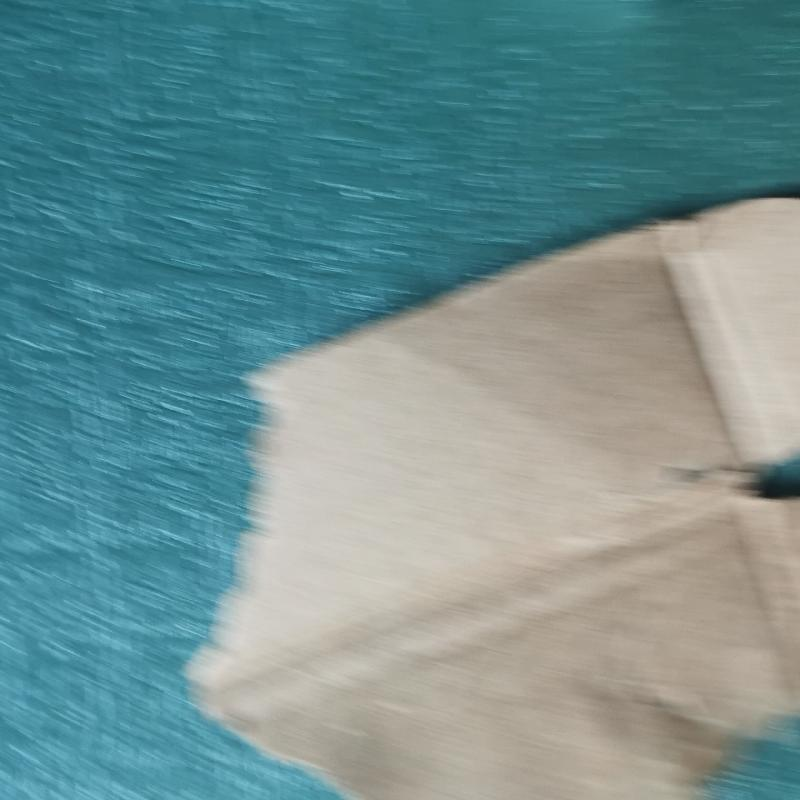boxes: (173, 196, 800, 800)
